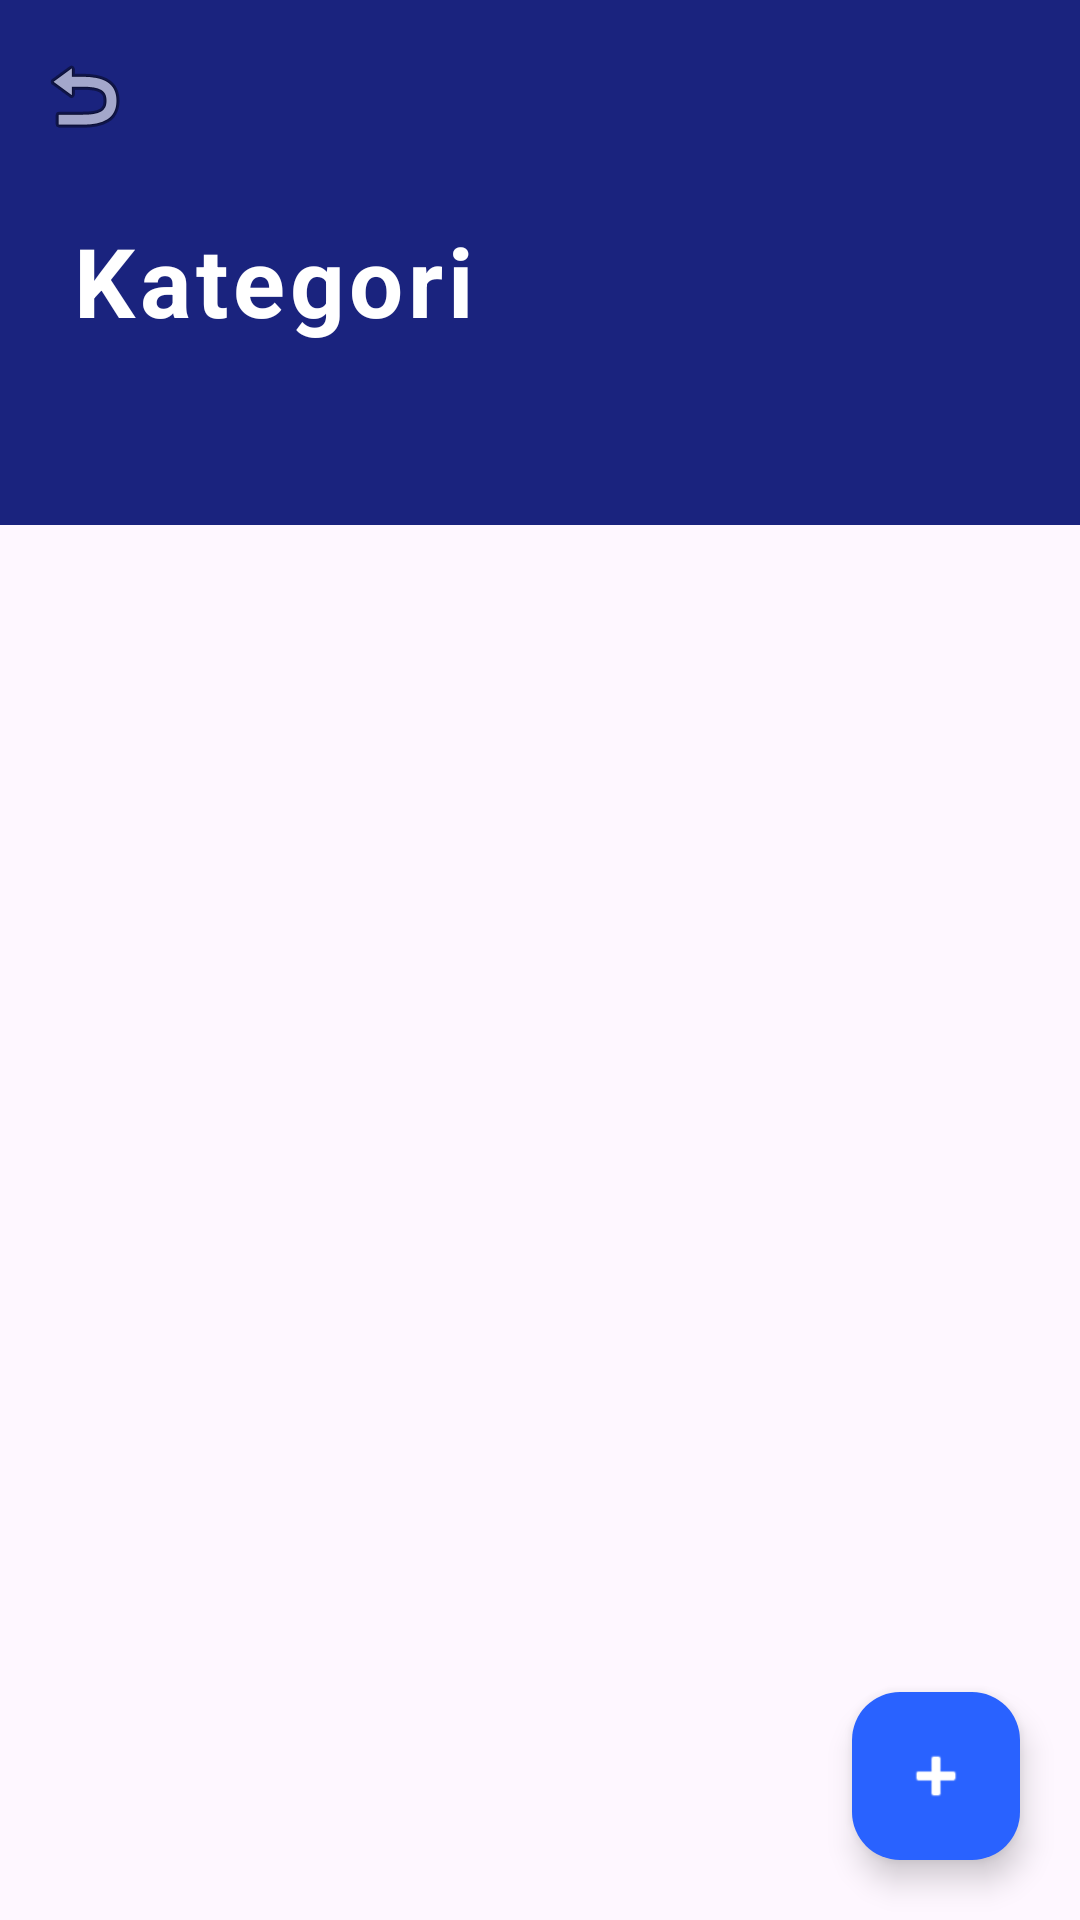

Icon bounding boxes for this 1080*1920 phone screenshot, format (x1, y1, x2, y2):
Tambah Kategori Baru: (852, 1692, 1020, 1860)
